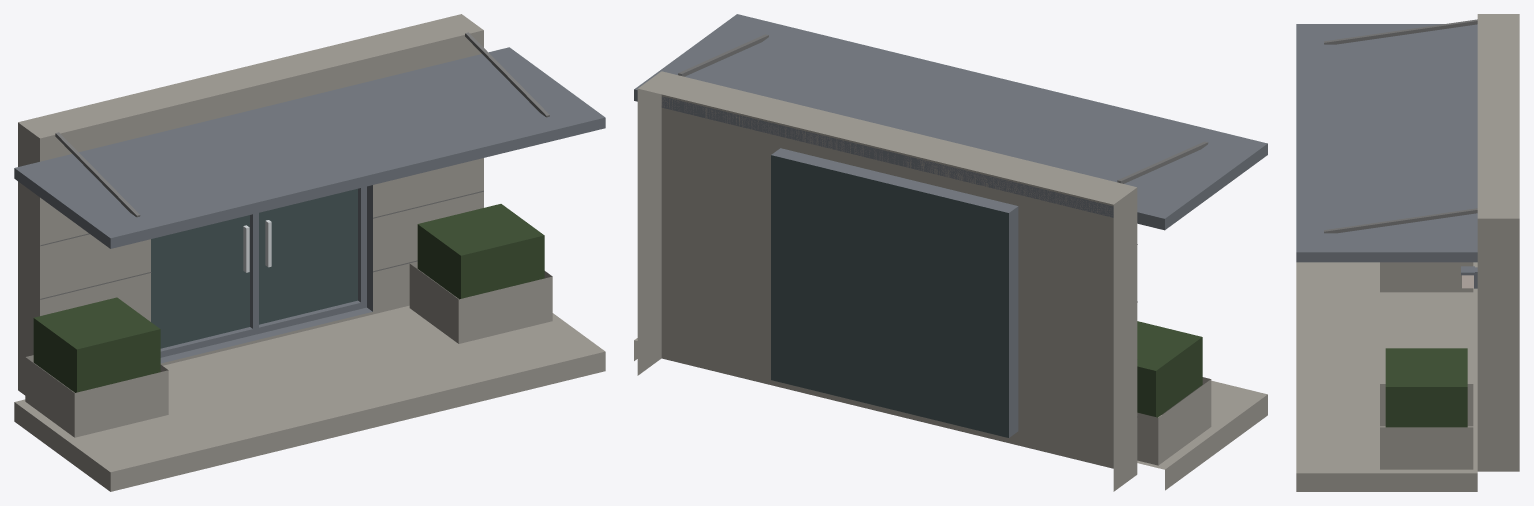
The model's file is entrance_close.fbx.
3 renders of one model, left to right at view 1: azimuth 30°, elevation 25°; view 2: azimuth 150°, elevation 25°; view 3: azimuth 270°, elevation 25°, orthographic. The views are drawn at different scales.
Visible parts, largest first — view 1: a2007/0/entrance_close; view 2: a2007/0/entrance_close; view 3: a2007/0/entrance_close.
Part boxes in pixels (left/top/right/bottom): a2007/0/entrance_close: left=14, top=14, right=605, bottom=491; a2007/0/entrance_close: left=634, top=14, right=1267, bottom=491; a2007/0/entrance_close: left=1296, top=14, right=1519, bottom=491.
Bounding box in the file's own units: 5.8 × 3.12 × 2.4.
